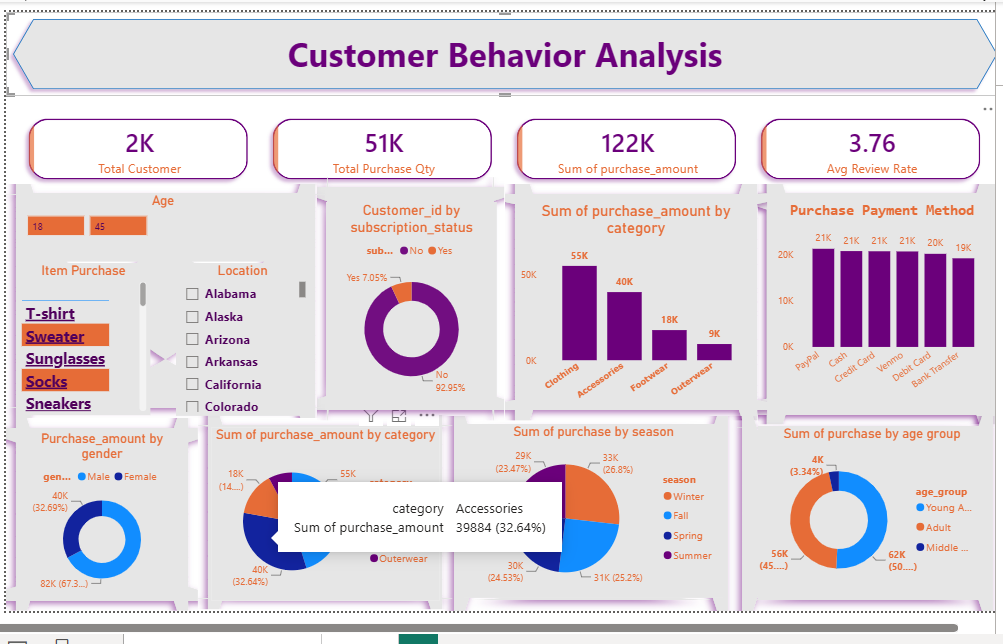

This screenshot's page, from the dashboard's own definition file:
{"tool":"powerbi","page":{"name":"custmer behavior Dashboard","canvas":[1317,768],"ordinal":0},"visuals":[{"type":"cardVisual","fields":{"Data":["clean_Customer_Behaviour.Total Customer","clean_Customer_Behaviour.Total Purchase Qty","Sum(clean_Customer_Behaviour.purchase_amount)","clean_Customer_Behaviour.Avg Review Rate"]},"box":[0,108,1280,136.2],"z":0},{"type":"shape","box":[0,0,1280,108],"z":1000},{"type":"shape","box":[964.1,220.5,315.4,307.7],"z":2000},{"type":"shape","box":[639.7,220.5,335.9,302.6],"z":3000},{"type":"columnChart","title":"Purchase Payment Method","fields":{"Category":["clean_Customer_Behaviour.payment_method"],"Y":["Sum(clean_Customer_Behaviour.purchase_amount)"]},"box":[984.6,243.6,276.9,262.8],"z":4000},{"type":"clusteredColumnChart","fields":{"Category":["clean_Customer_Behaviour.category"],"Y":["Sum(clean_Customer_Behaviour.purchase_amount)"]},"box":[655.1,243.6,305.1,262.8],"z":5000},{"type":"shape","box":[929.5,517.9,350,250],"z":6000},{"type":"donutChart","title":"Sum of purchase by age group","fields":{"Category":["clean_Customer_Behaviour.age_group"],"Y":["Sum(clean_Customer_Behaviour.purchase_amount)"]},"box":[964.1,530.8,292.3,221.8],"z":7000},{"type":"shape","box":[560.3,517.9,379.5,250],"z":8000},{"type":"pieChart","title":"Sum of purchase by season","fields":{"Category":["clean_Customer_Behaviour.season"],"Y":["Sum(clean_Customer_Behaviour.purchase_amount)"]},"box":[587.2,528.2,332.1,223.1],"z":9000},{"type":"shape","box":[246.2,516.7,325.6,248.7],"z":9002},{"type":"pieChart","fields":{"Category":["clean_Customer_Behaviour.category"],"Y":["Sum(clean_Customer_Behaviour.purchase_amount)"]},"box":[262.8,532.1,293.6,223.1],"z":9003},{"type":"shape","box":[0,520.5,246.2,247.4],"z":9004},{"type":"donutChart","title":"Purchase_amount by gender","fields":{"Category":["clean_Customer_Behaviour.gender"],"Y":["Sum(clean_Customer_Behaviour.purchase_amount)"]},"box":[14.1,537.2,217.9,211.5],"z":9005},{"type":"shape","box":[398.7,211.5,239.7,311.5],"z":9006},{"type":"donutChart","title":"Customer_id by subscription_status","fields":{"Category":["clean_Customer_Behaviour.subscription_status"],"Y":["Sum(clean_Customer_Behaviour.customer_id)"]},"box":[410.3,243.6,219.2,255.1],"z":9007},{"type":"shape","box":[0,220.5,409,300],"z":9009},{"type":"slicer","title":"Age","fields":{"Values":["clean_Customer_Behaviour.age"]},"box":[14.1,232.1,374.4,88.5],"z":9010},{"type":"slicer","title":"Location","fields":{"Values":["clean_Customer_Behaviour.location"]},"box":[217.9,321.8,170.5,196.2],"z":9011},{"type":"slicer","title":"Gender","fields":{"Values":["clean_Customer_Behaviour.gender"]},"box":[43.6,21.8,261.5,62.8],"z":9012},{"type":"tableEx","title":"Item Purchase","fields":{"Values":["clean_Customer_Behaviour.item_purchased"]},"box":[14.1,321.8,170.5,194.9],"z":9013},{"type":"shape","box":[232.1,234.6,160.3,34.6],"z":9014}]}

Visuals, with their boxes on the page's 1317x768 design canvas (x1, y1, x2, y2). These are canvas units, not pixel positions in the 1003x644 screenshot, which may show the page scaled, cropped or inside an application window:
cardVisual - clean_Customer_Behaviour.Total Customer x clean_Customer_Behaviour.Total Purchase Qty: <box>0,108,1280,244</box>
shape: <box>0,0,1280,108</box>
shape: <box>964,220,1280,528</box>
shape: <box>640,220,976,523</box>
"Purchase Payment Method" columnChart: <box>985,244,1262,506</box>
clusteredColumnChart - clean_Customer_Behaviour.category x Sum(clean_Customer_Behaviour.purchase_amount): <box>655,244,960,506</box>
shape: <box>930,518,1280,768</box>
"Sum of purchase by age group" donutChart: <box>964,531,1256,753</box>
shape: <box>560,518,940,768</box>
"Sum of purchase by season" pieChart: <box>587,528,919,751</box>
shape: <box>246,517,572,765</box>
pieChart - clean_Customer_Behaviour.category x Sum(clean_Customer_Behaviour.purchase_amount): <box>263,532,556,755</box>
shape: <box>0,520,246,768</box>
"Purchase_amount by gender" donutChart: <box>14,537,232,749</box>
shape: <box>399,212,638,523</box>
"Customer_id by subscription_status" donutChart: <box>410,244,630,499</box>
shape: <box>0,220,409,520</box>
"Age" slicer: <box>14,232,388,321</box>
"Location" slicer: <box>218,322,388,518</box>
"Gender" slicer: <box>44,22,305,85</box>
"Item Purchase" tableEx: <box>14,322,185,517</box>
shape: <box>232,235,392,269</box>
